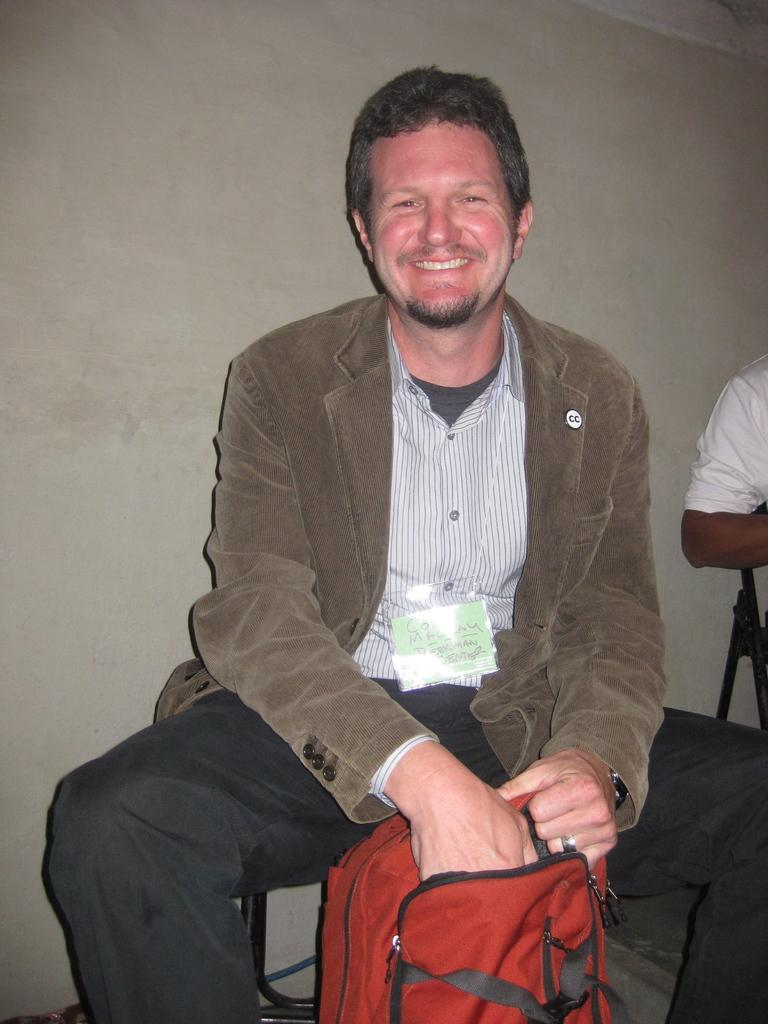Luggage-and-bags: (311, 792, 626, 1023)
